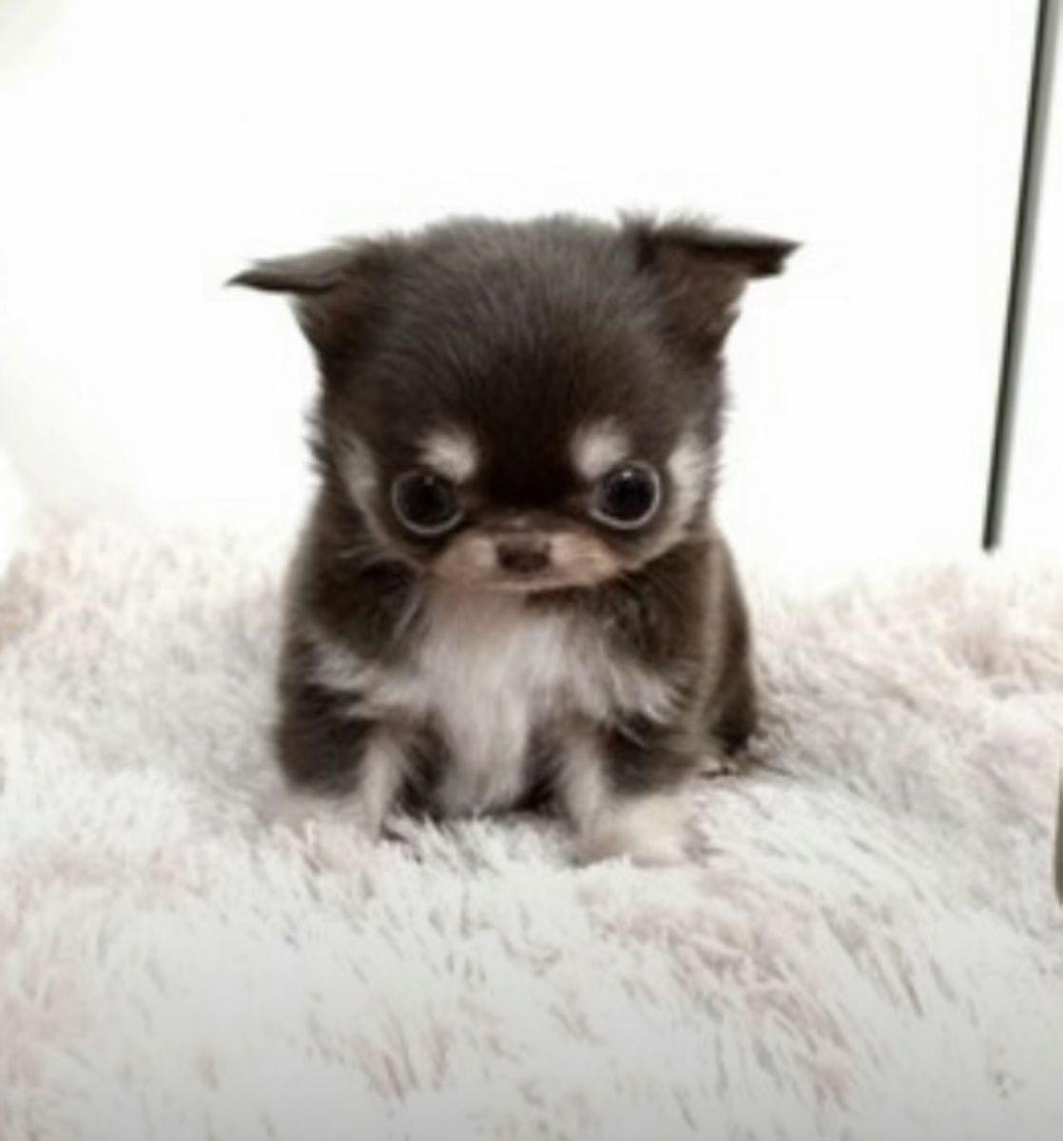puppy-dog: (224, 204, 807, 878)
